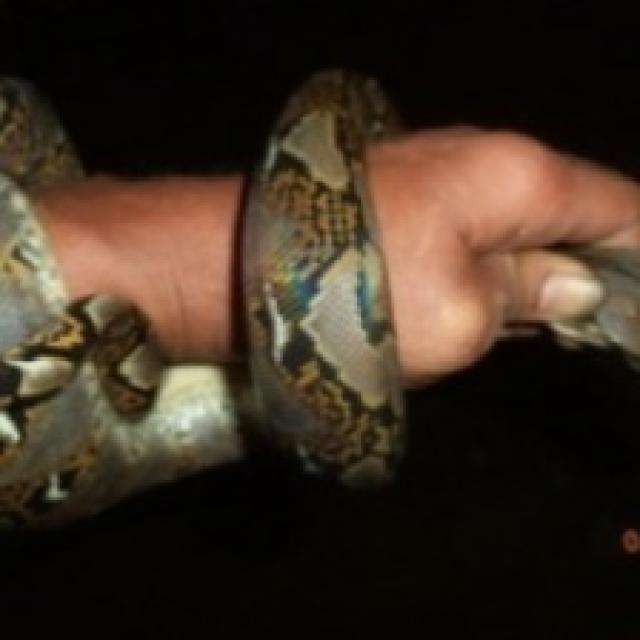reticulated python: (0, 76, 242, 527), (240, 69, 404, 487), (549, 245, 640, 369)
